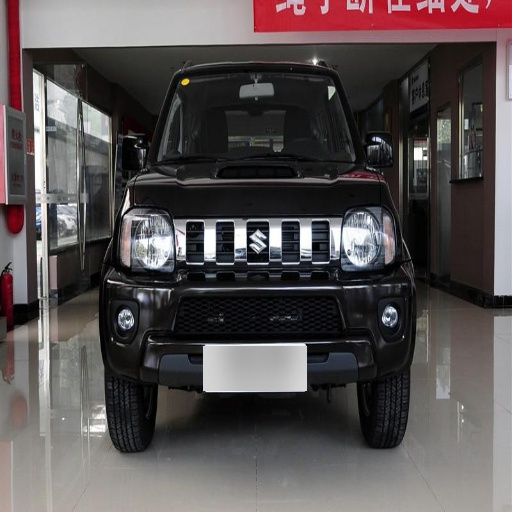front_bumper: (101, 215, 414, 391)
front_right_light: (119, 197, 175, 271)
